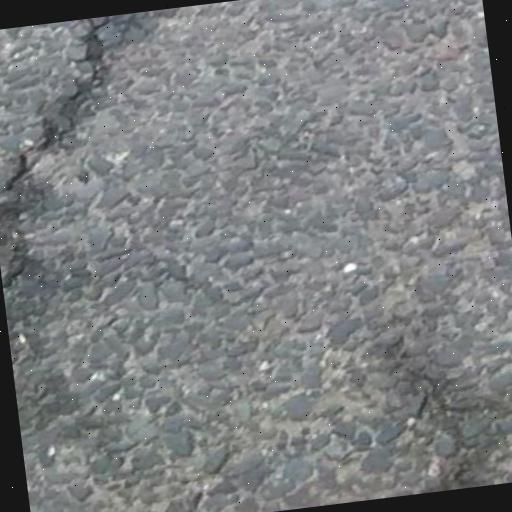spalling: (3, 30, 108, 199)
